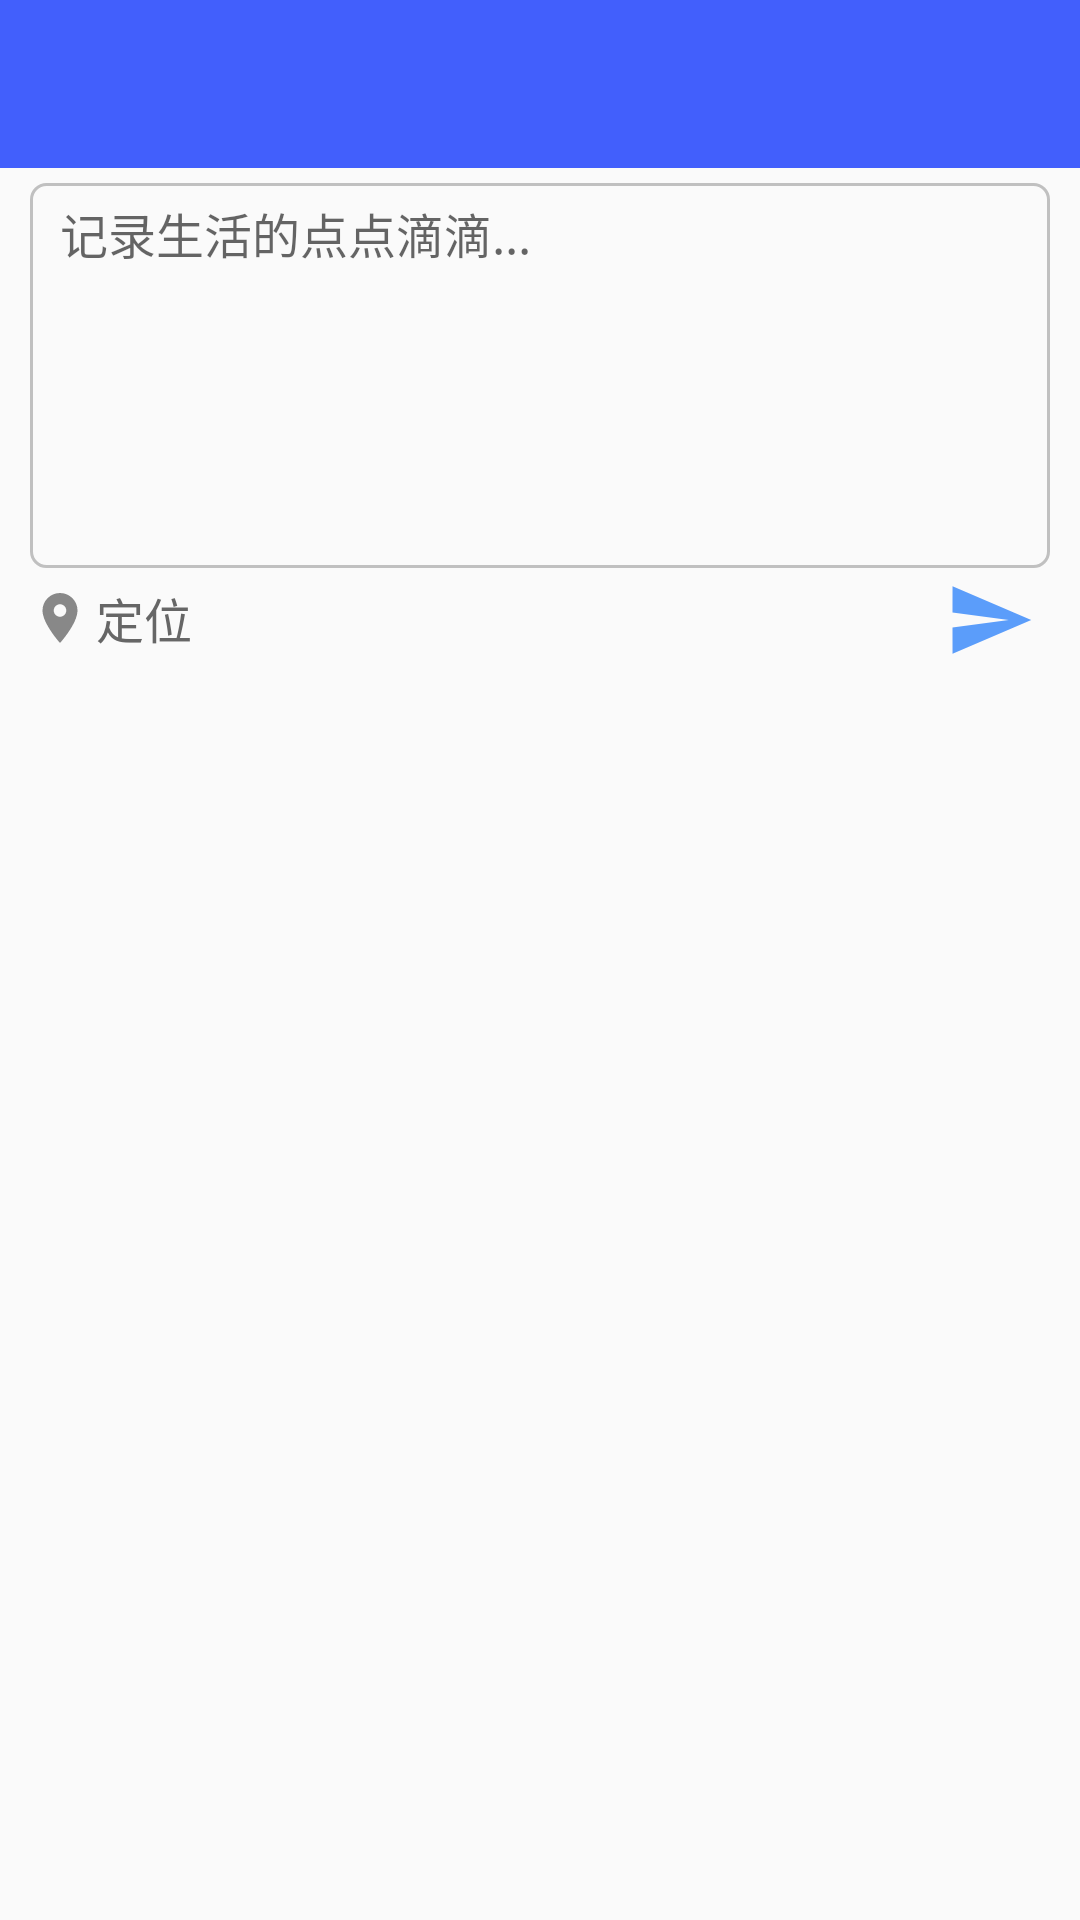

Named icons in this screenshot (1080px×1920px) and their centers, [x,y]:
location: [60,618]
send: [991,620]
